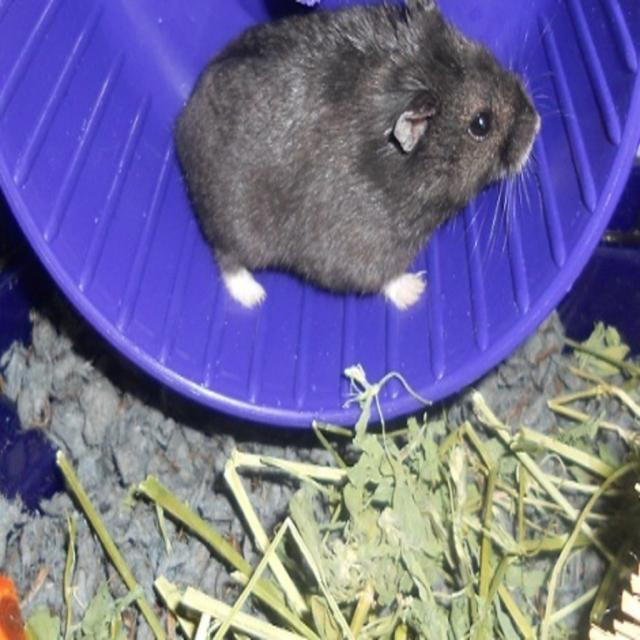rat: (172, 8, 570, 308)
